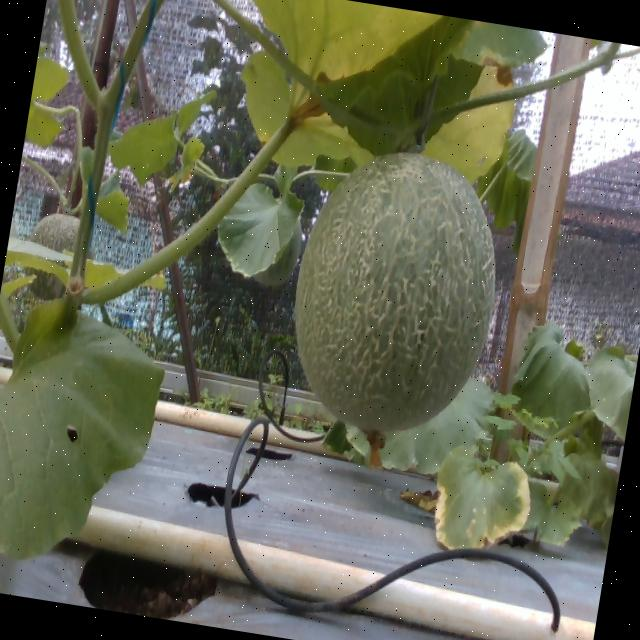melon: (296, 154, 495, 431)
